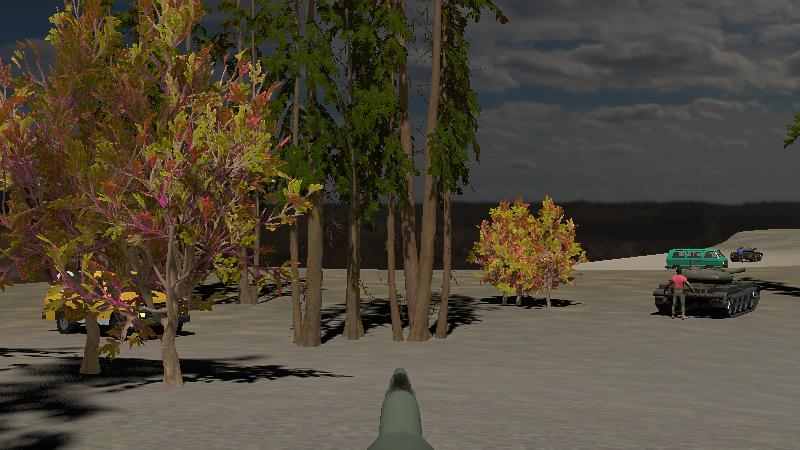Human: (663, 264, 696, 323)
Tank: (648, 265, 763, 320), (728, 244, 765, 263)
car: (40, 268, 191, 337), (664, 247, 728, 273)
